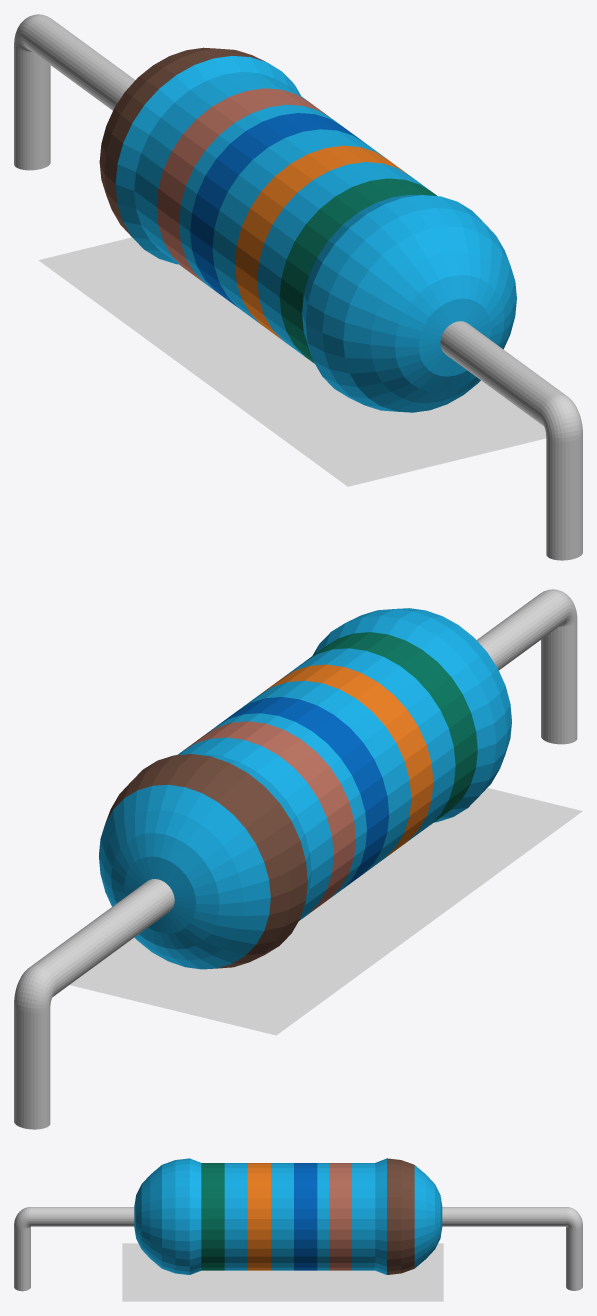
3 renders of one model, top to bottom at view 1: azimuth 30°, elevation 25°; view 2: azimuth 150°, elevation 25°; view 3: azimuth 270°, elevation 25°, orthographic. The views are drawn at different scales.
Visible parts, largest first — view 1: R_3, R_3_plane; view 2: R_3, R_3_plane; view 3: R_3, R_3_plane.
Boxes of the visible parts, left/top/right/bottom form: R_3: left=14, top=14, right=582, bottom=560; R_3_plane: left=38, top=237, right=546, bottom=486; R_3: left=14, top=589, right=577, bottom=1129; R_3_plane: left=70, top=788, right=582, bottom=1035; R_3: left=14, top=1158, right=582, bottom=1291; R_3_plane: left=122, top=1243, right=443, bottom=1301.
Bounding box in the file's own units: 0.0161 × 0.0159 × 0.0664.
